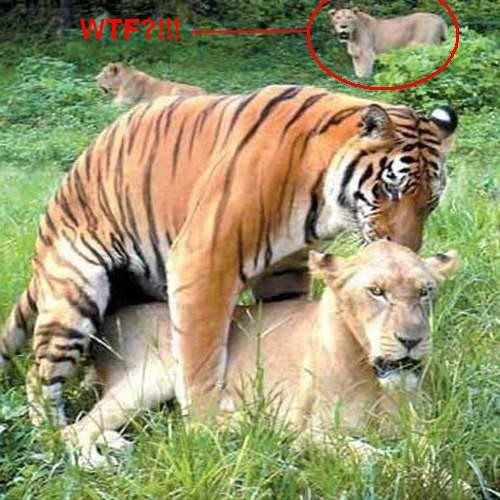lion: (64, 238, 464, 472), (330, 7, 447, 84), (92, 58, 198, 107)
tiger: (2, 85, 459, 431)
